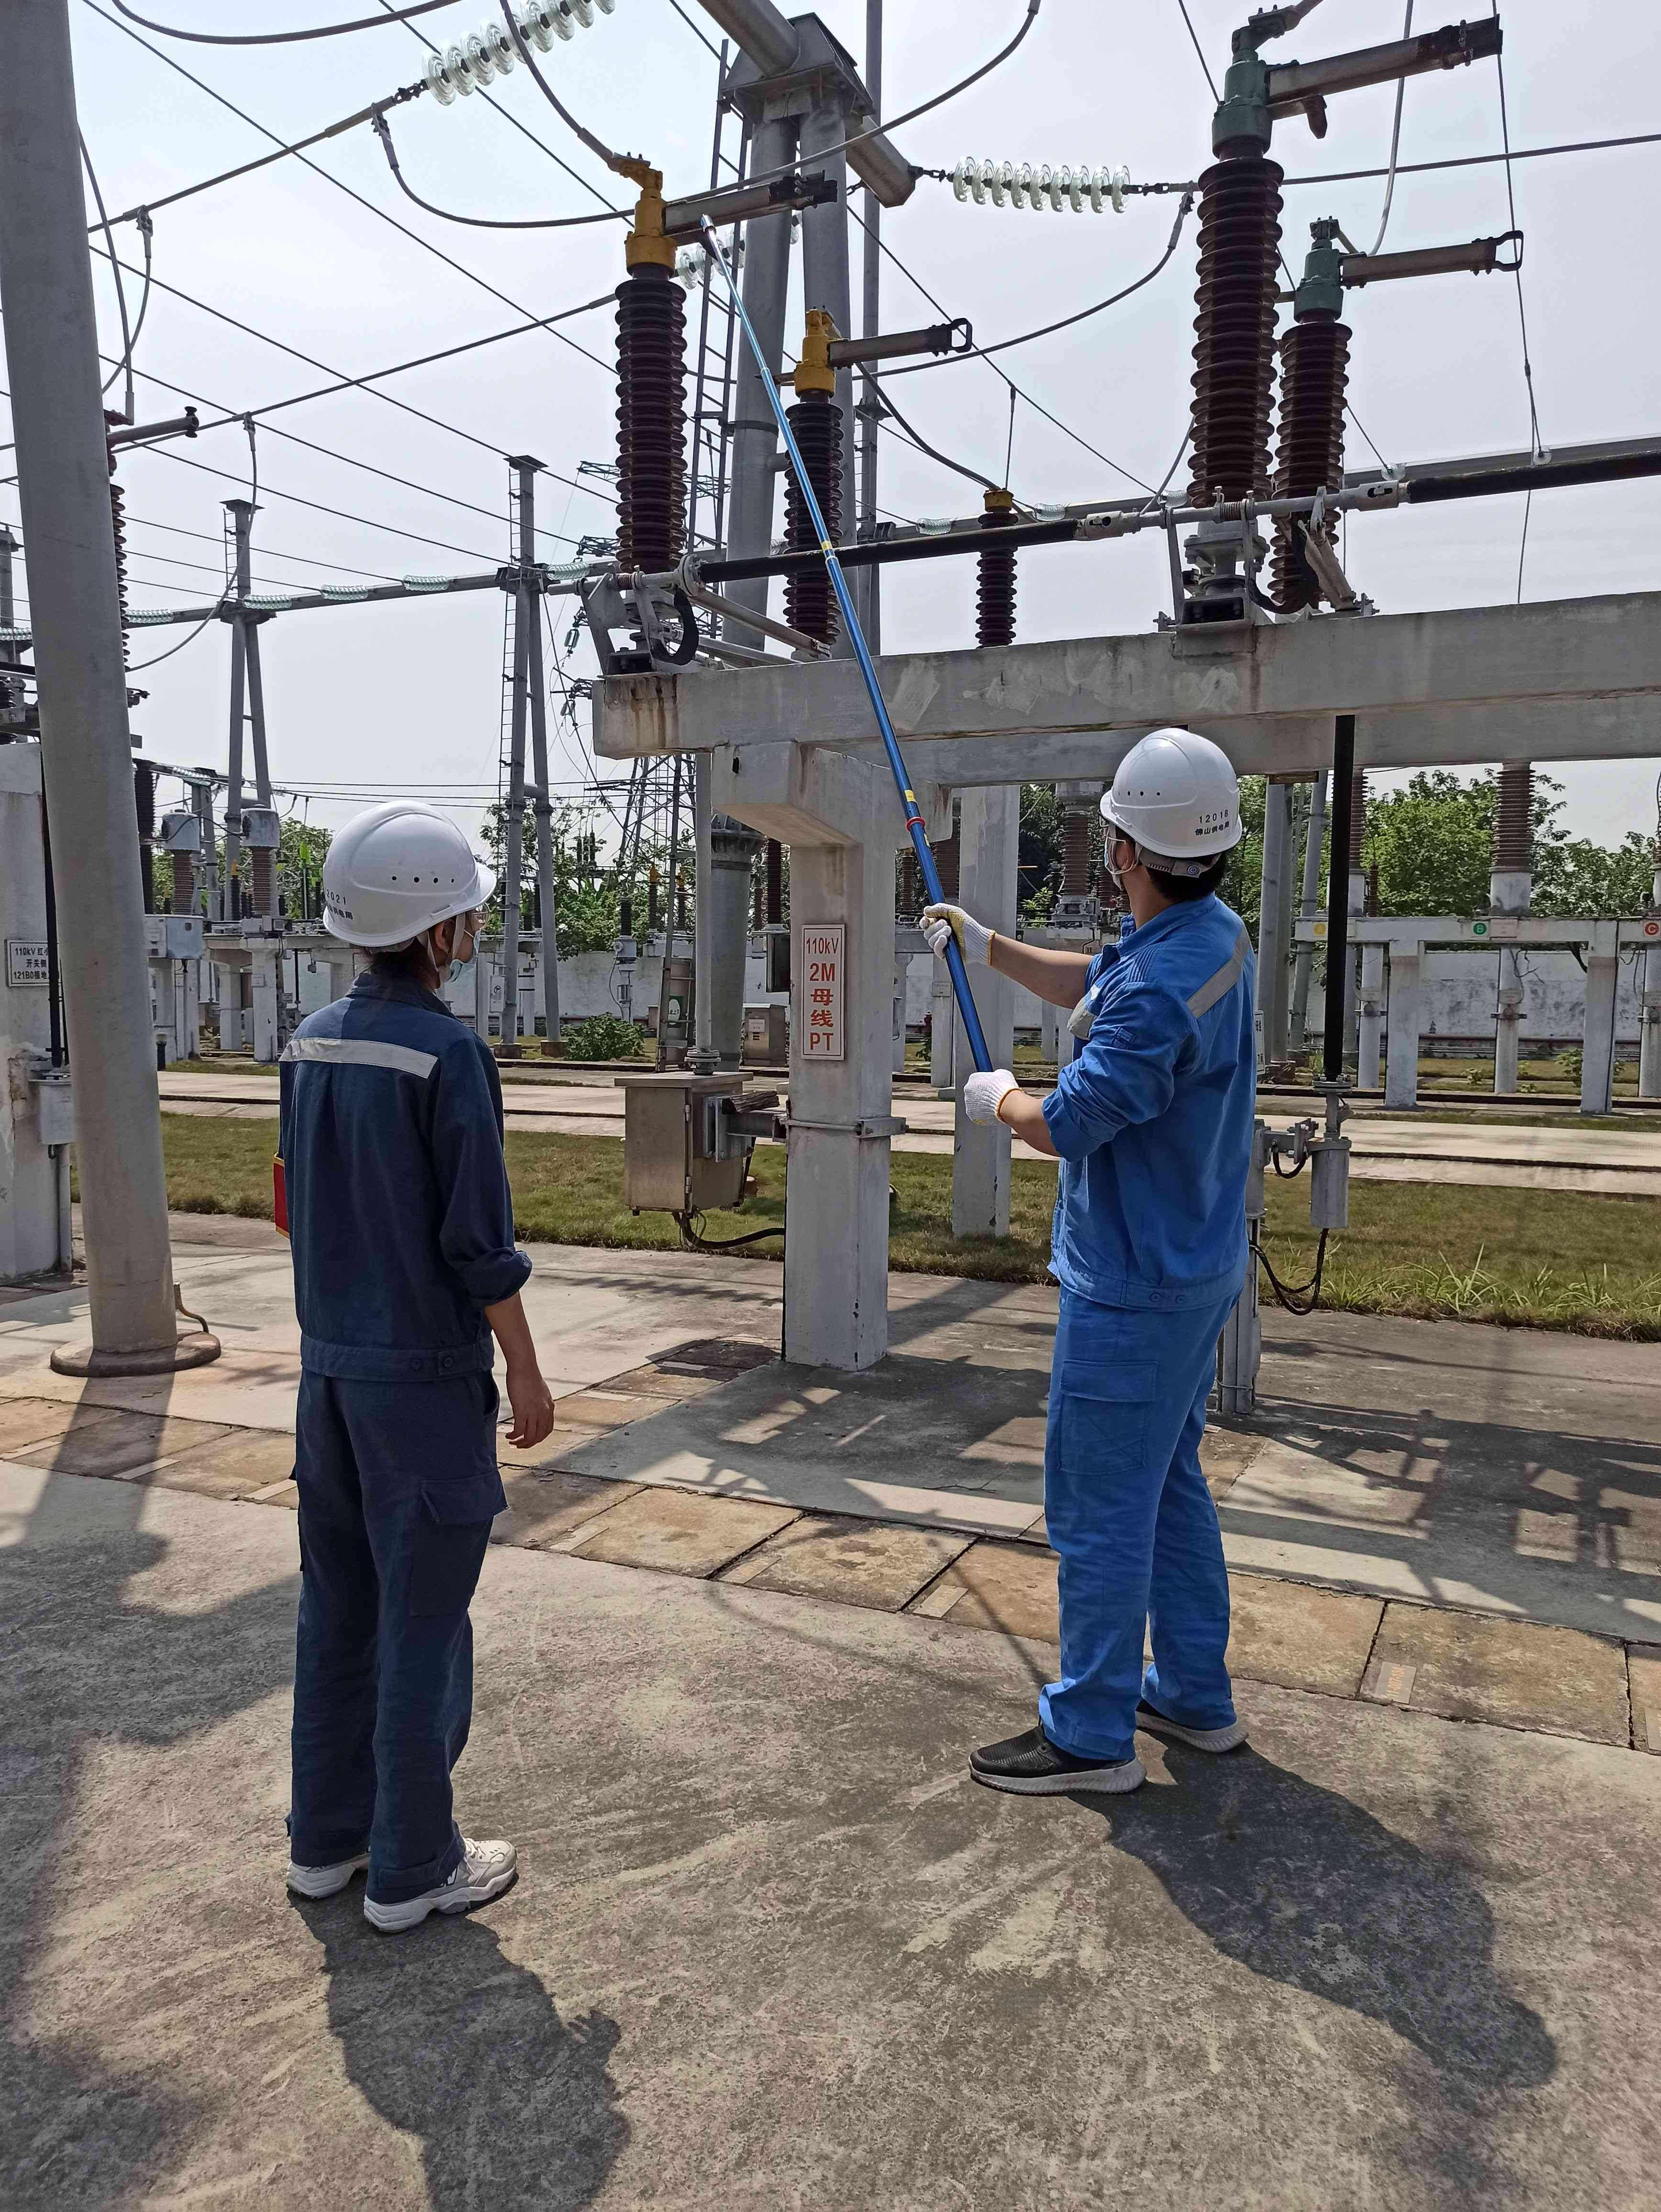downsuit: (286, 1390, 508, 1900), (1052, 1314, 1242, 1765)
upsuit: (274, 975, 541, 1387), (1049, 897, 1261, 1310)
wrongtop: (478, 1280, 558, 1446), (982, 930, 1110, 1012), (993, 1080, 1068, 1162)
